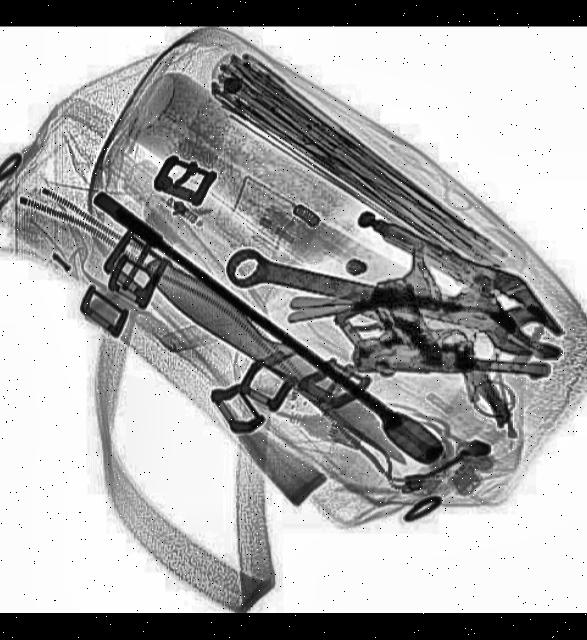Gun: (354, 278, 555, 381)
Knife: (142, 249, 419, 474)
Wrench: (223, 240, 552, 356)
